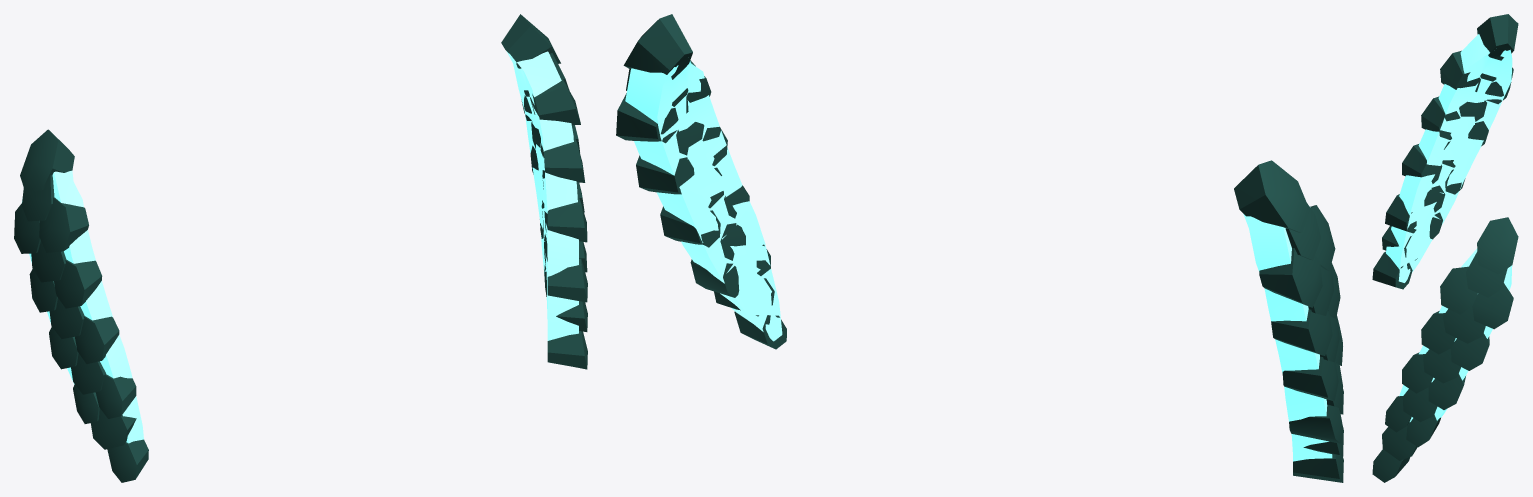
Rendered from SerpentScalesVeil.fbx.
3 renders of one model, left to right at view 1: azimuth 30°, elevation 25°; view 2: azimuth 150°, elevation 25°; view 3: azimuth 270°, elevation 25°, orthographic. The views are drawn at different scales.
Parts seen in each view (by area): view 1: SerpentScalesVeil_RightScales, SerpentScalesVeil_LeftScales, SerpentScalesVeil_LeftSeam, SerpentScalesVeil_RightSeam; view 2: SerpentScalesVeil_RightScales, SerpentScalesVeil_LeftSeam, SerpentScalesVeil_LeftScales, SerpentScalesVeil_RightSeam; view 3: SerpentScalesVeil_LeftScales, SerpentScalesVeil_RightSeam, SerpentScalesVeil_RightScales, SerpentScalesVeil_LeftSeam.
Boxes of the visible parts, box(x1,y1,x2,y2) form: SerpentScalesVeil_RightScales: box(14, 129, 148, 482); SerpentScalesVeil_LeftScales: box(501, 14, 587, 369); SerpentScalesVeil_LeftSeam: box(506, 51, 578, 340); SerpentScalesVeil_RightSeam: box(22, 170, 143, 443); SerpentScalesVeil_RightScales: box(1234, 160, 1343, 482); SerpentScalesVeil_LeftSeam: box(625, 61, 782, 341); SerpentScalesVeil_LeftScales: box(616, 14, 786, 349); SerpentScalesVeil_RightSeam: box(1243, 207, 1332, 461); SerpentScalesVeil_LeftScales: box(1372, 217, 1518, 482); SerpentScalesVeil_RightSeam: box(1386, 34, 1512, 282); SerpentScalesVeil_RightScales: box(1372, 14, 1518, 289); SerpentScalesVeil_LeftSeam: box(1399, 248, 1512, 421).
Size of the model in its own units: 1.25 by 0.6665 by 0.3301.
